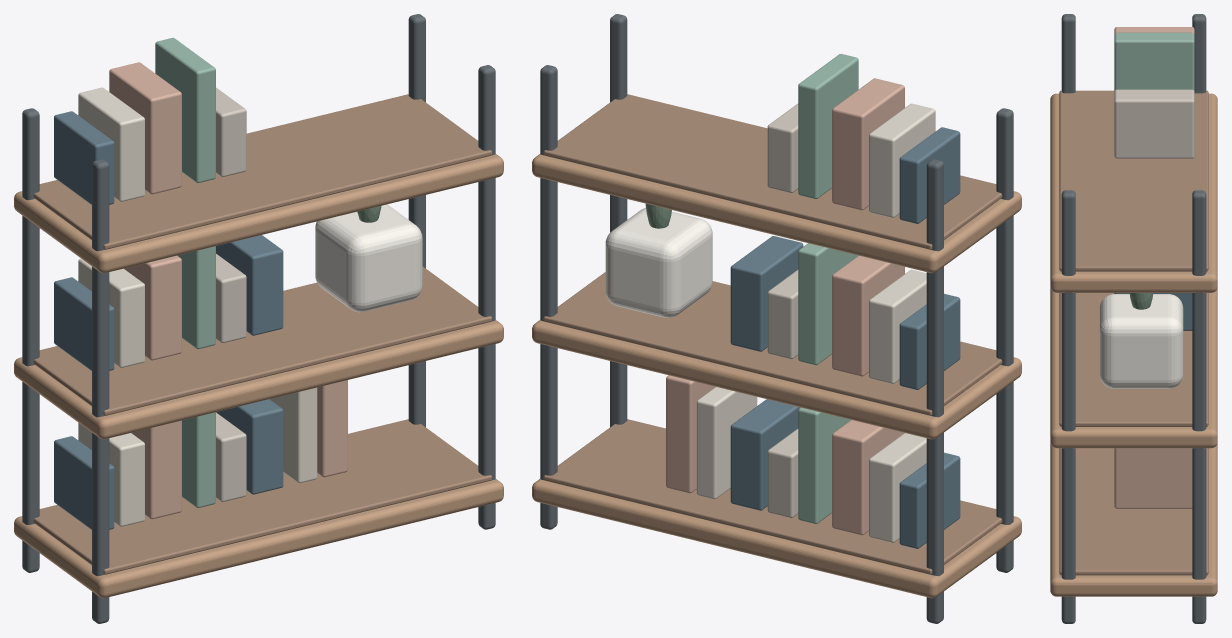
The model's file is shelves.glb.
3 views of the same model, side by side, from view 1: azimuth 30°, elevation 25°; view 2: azimuth 150°, elevation 25°; view 3: azimuth 270°, elevation 25° (orthographic). The views are drawn at different scales.
Parts seen in each view (by area): view 1: walnut_2, wood_rich_1, graphite_0, navy_3, terracotta_5, cream_4, green_6, ivory_8, sand_7; view 2: walnut_2, wood_rich_1, graphite_0, navy_3, terracotta_5, cream_4, green_6, ivory_8, sand_7; view 3: walnut_2, wood_rich_1, graphite_0, ivory_8, sand_7, terracotta_5, green_6, navy_3, green_dark_9.
Part boxes in pixels (<box>): walnut_2: <box>33,94,492,574</box>; wood_rich_1: <box>14,154,503,598</box>; graphite_0: <box>22,14,495,623</box>; navy_3: <box>54,111,283,529</box>; terracotta_5: <box>109,62,347,519</box>; cream_4: <box>78,87,317,526</box>; green_6: <box>155,38,215,507</box>; ivory_8: <box>315,204,422,312</box>; sand_7: <box>216,87,246,501</box>; walnut_2: <box>543,94,1002,574</box>; wood_rich_1: <box>532,154,1021,598</box>; graphite_0: <box>540,14,1013,623</box>; navy_3: <box>730,127,960,548</box>; terracotta_5: <box>666,78,904,535</box>; cream_4: <box>696,103,935,542</box>; green_6: <box>798,54,858,523</box>; ivory_8: <box>605,207,712,317</box>; sand_7: <box>767,103,798,517</box>; walnut_2: <box>1059,90,1208,575</box>; wood_rich_1: <box>1050,93,1217,596</box>; graphite_0: <box>1061,14,1206,623</box>; ivory_8: <box>1099,294,1183,388</box>; sand_7: <box>1114,89,1194,158</box>; terracotta_5: <box>1114,27,1194,508</box>; green_6: <box>1114,32,1194,91</box>; navy_3: <box>1114,293,1192,330</box>; green_dark_9: <box>1129,293,1153,309</box>.
Size of the model in its own units: 2.35 by 2.78 by 0.9.
